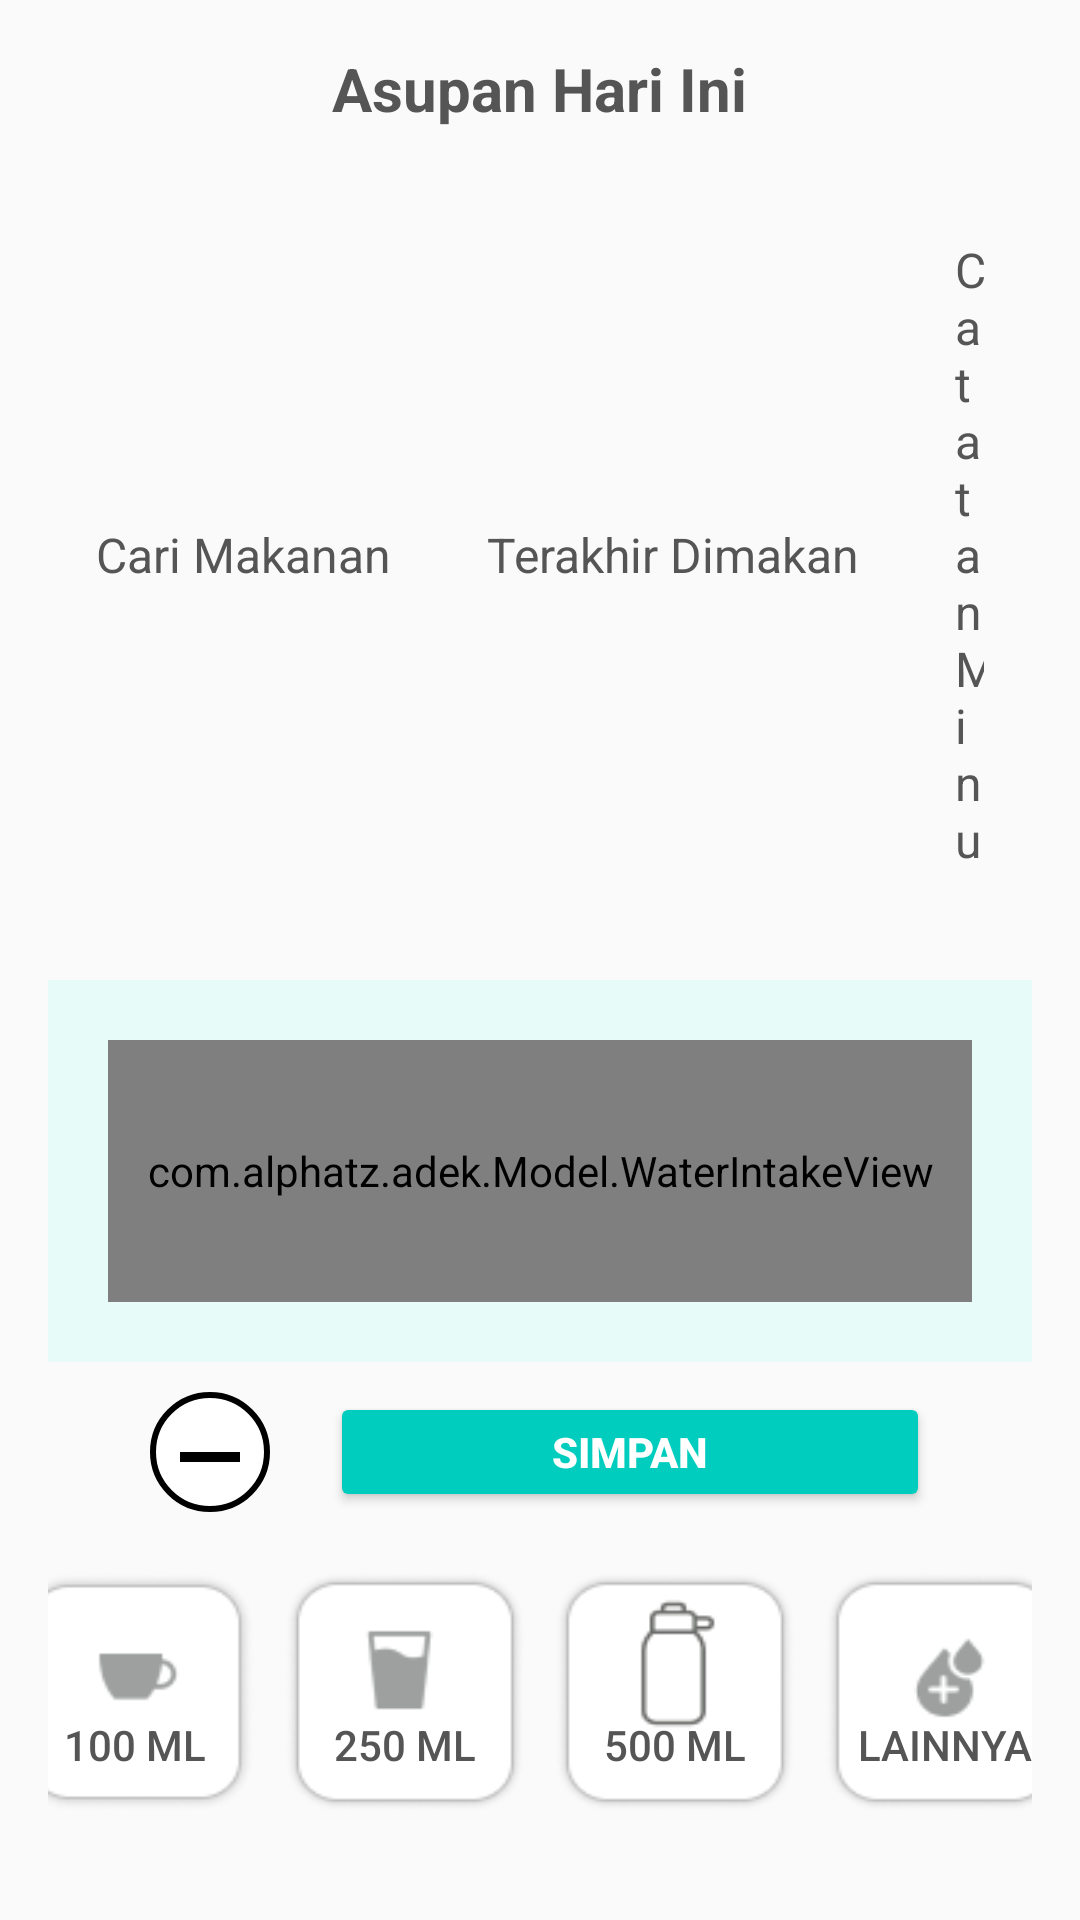

Point at icon controls on the screen. Image size 1080px×1920px, points as (x=x, y=y).
Decrease Water: (x=210, y=1452)
